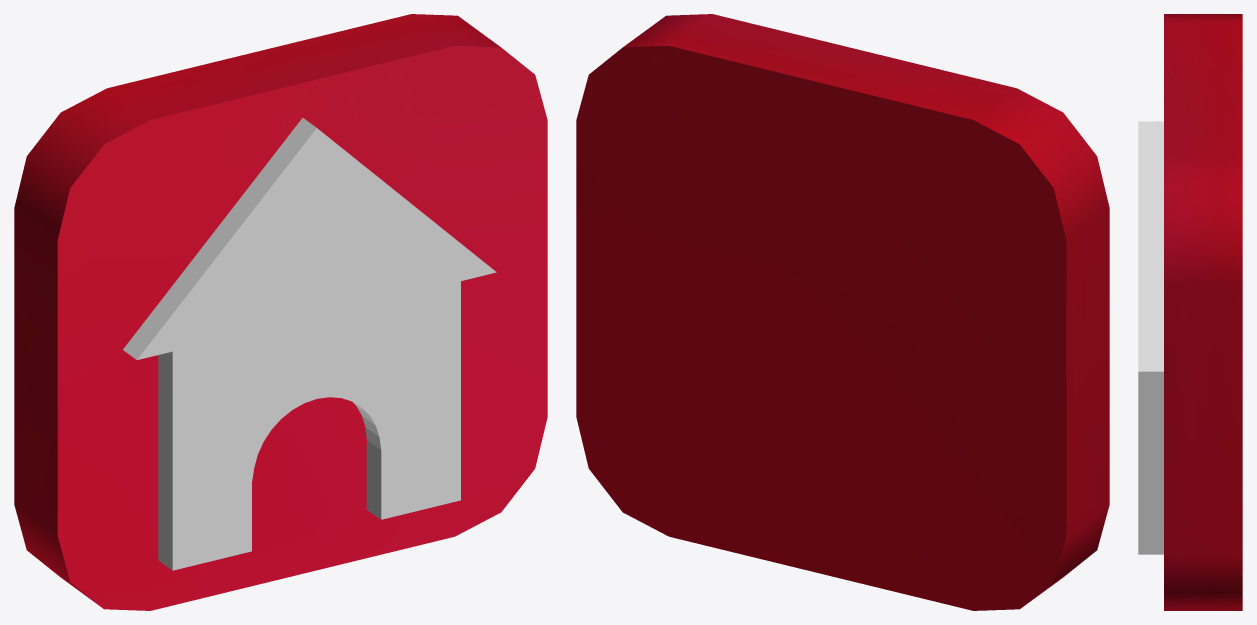
Rendered from 0602b0d2-97fe-40f9-a910-7bf78cc2caeb.glb.
The picture shows the model from 3 angles, left to right: view 1: azimuth 30°, elevation 25°; view 2: azimuth 150°, elevation 25°; view 3: azimuth 270°, elevation 25°; orthographic projection. The views are drawn at different scales.
Parts seen in each view (by area): view 1: homeButtonRoundedRed; view 2: homeButtonRoundedRed; view 3: homeButtonRoundedRed.
Part boxes in pixels (left/top/right/bottom): homeButtonRoundedRed: left=14, top=14, right=547, bottom=610; homeButtonRoundedRed: left=576, top=14, right=1109, bottom=610; homeButtonRoundedRed: left=1138, top=14, right=1242, bottom=610.
Size of what is drawn, in the model's own units: 0.2013 by 0.1928 by 0.041.
1 material, 1 textured.
